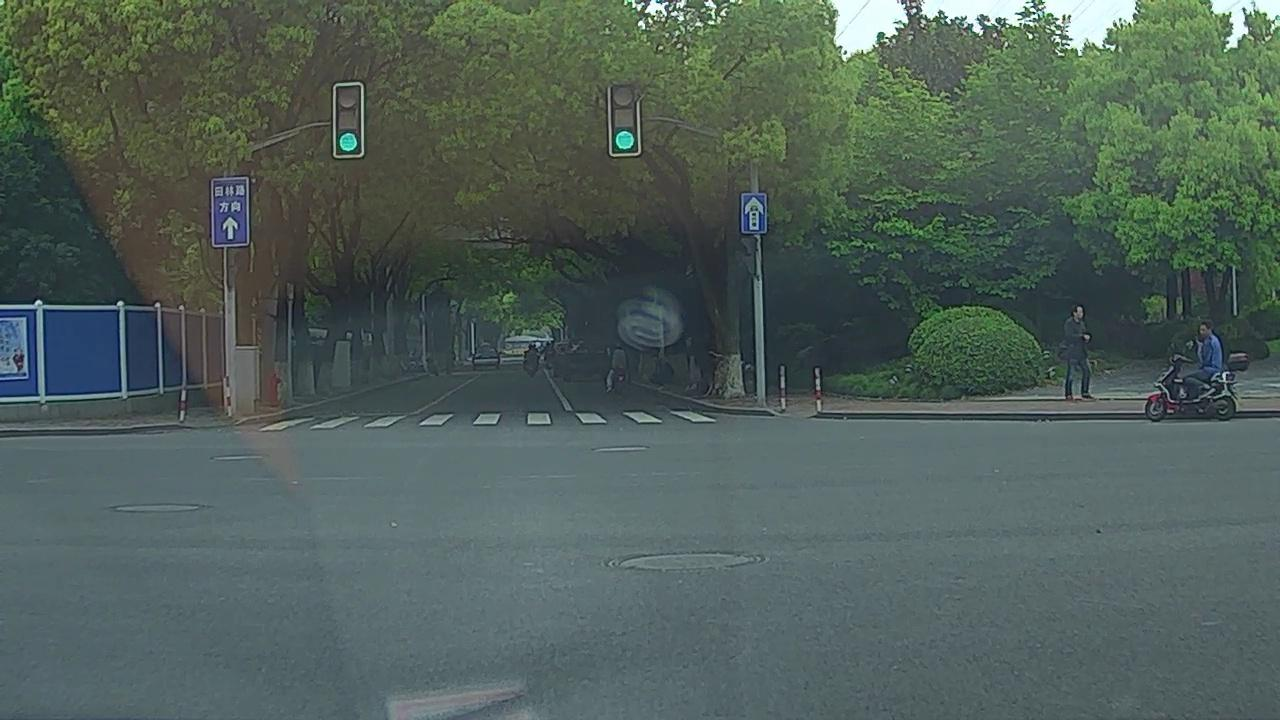traffic_light: (336, 87, 364, 159), (612, 85, 639, 157)
